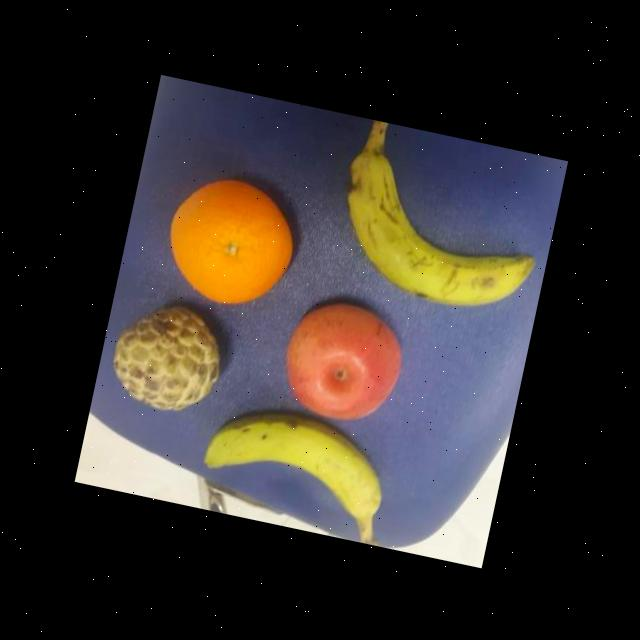Sakya fruit: (102, 291, 234, 421)
apple: (274, 292, 412, 430)
banana: (322, 143, 552, 322), (195, 392, 394, 531)
orange: (152, 166, 308, 316)
